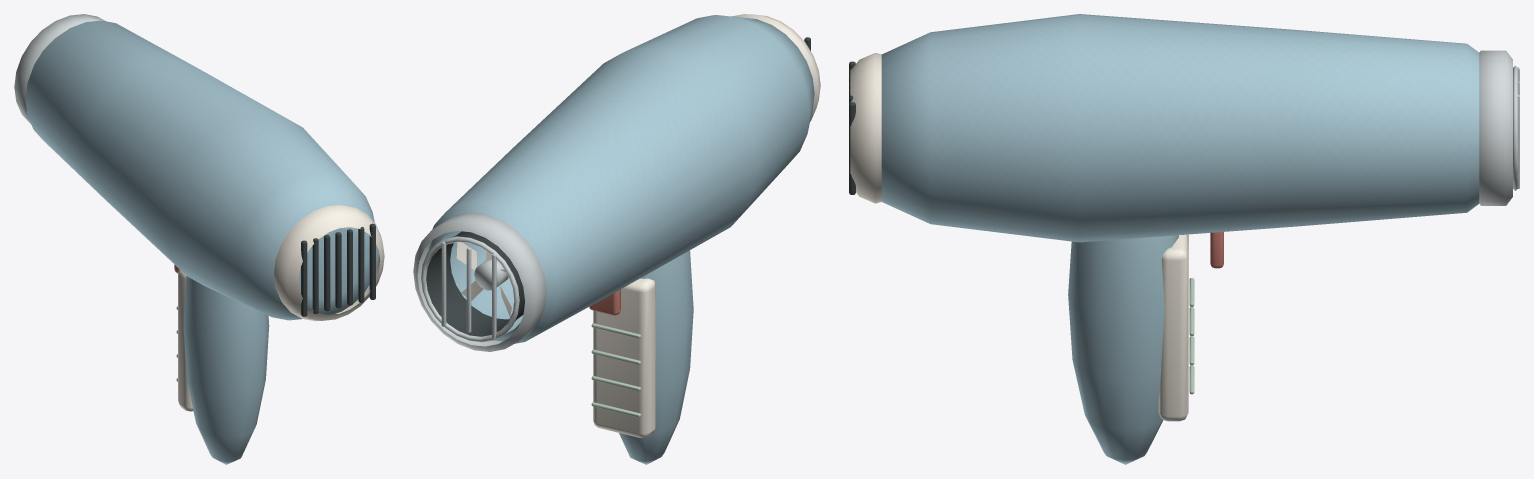
Rendered from test_b_dryer.glb.
3 renders of one model, left to right at view 1: azimuth 30°, elevation 25°; view 2: azimuth 150°, elevation 25°; view 3: azimuth 270°, elevation 25°, orthographic. The views are drawn at different scales.
Parts seen in each view (by area): view 1: Body; view 2: Body, Fan; view 3: Body.
Part boxes in pixels (x1=…): Body: x1=14, y1=14, x2=384, y2=464; Body: x1=413, y1=14, x2=820, y2=464; Fan: x1=456, y1=242, x2=513, y2=317; Body: x1=849, y1=14, x2=1519, y2=464.
Bounding box in the file's own units: 0.1026 × 0.2174 × 0.3.
7 materials, 7 textured.
